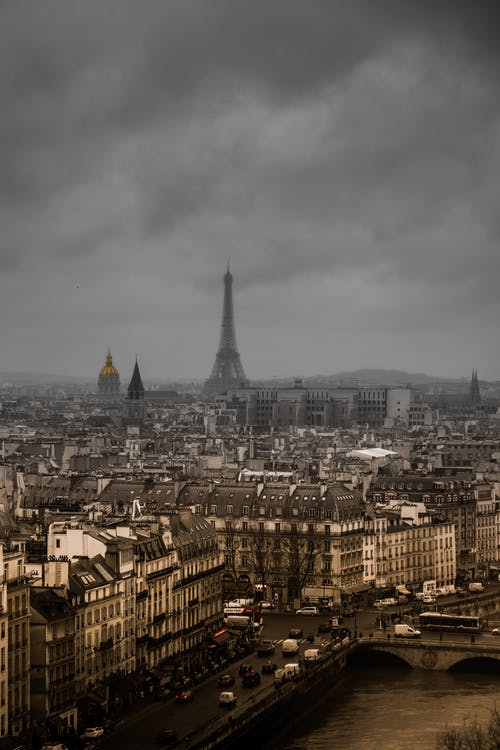eiffel tower: (185, 247, 259, 381)
